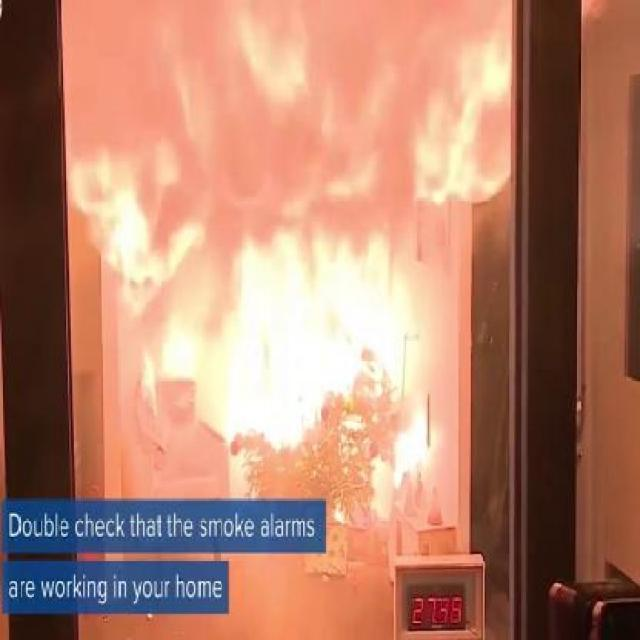smoke: (209, 37, 405, 571)
